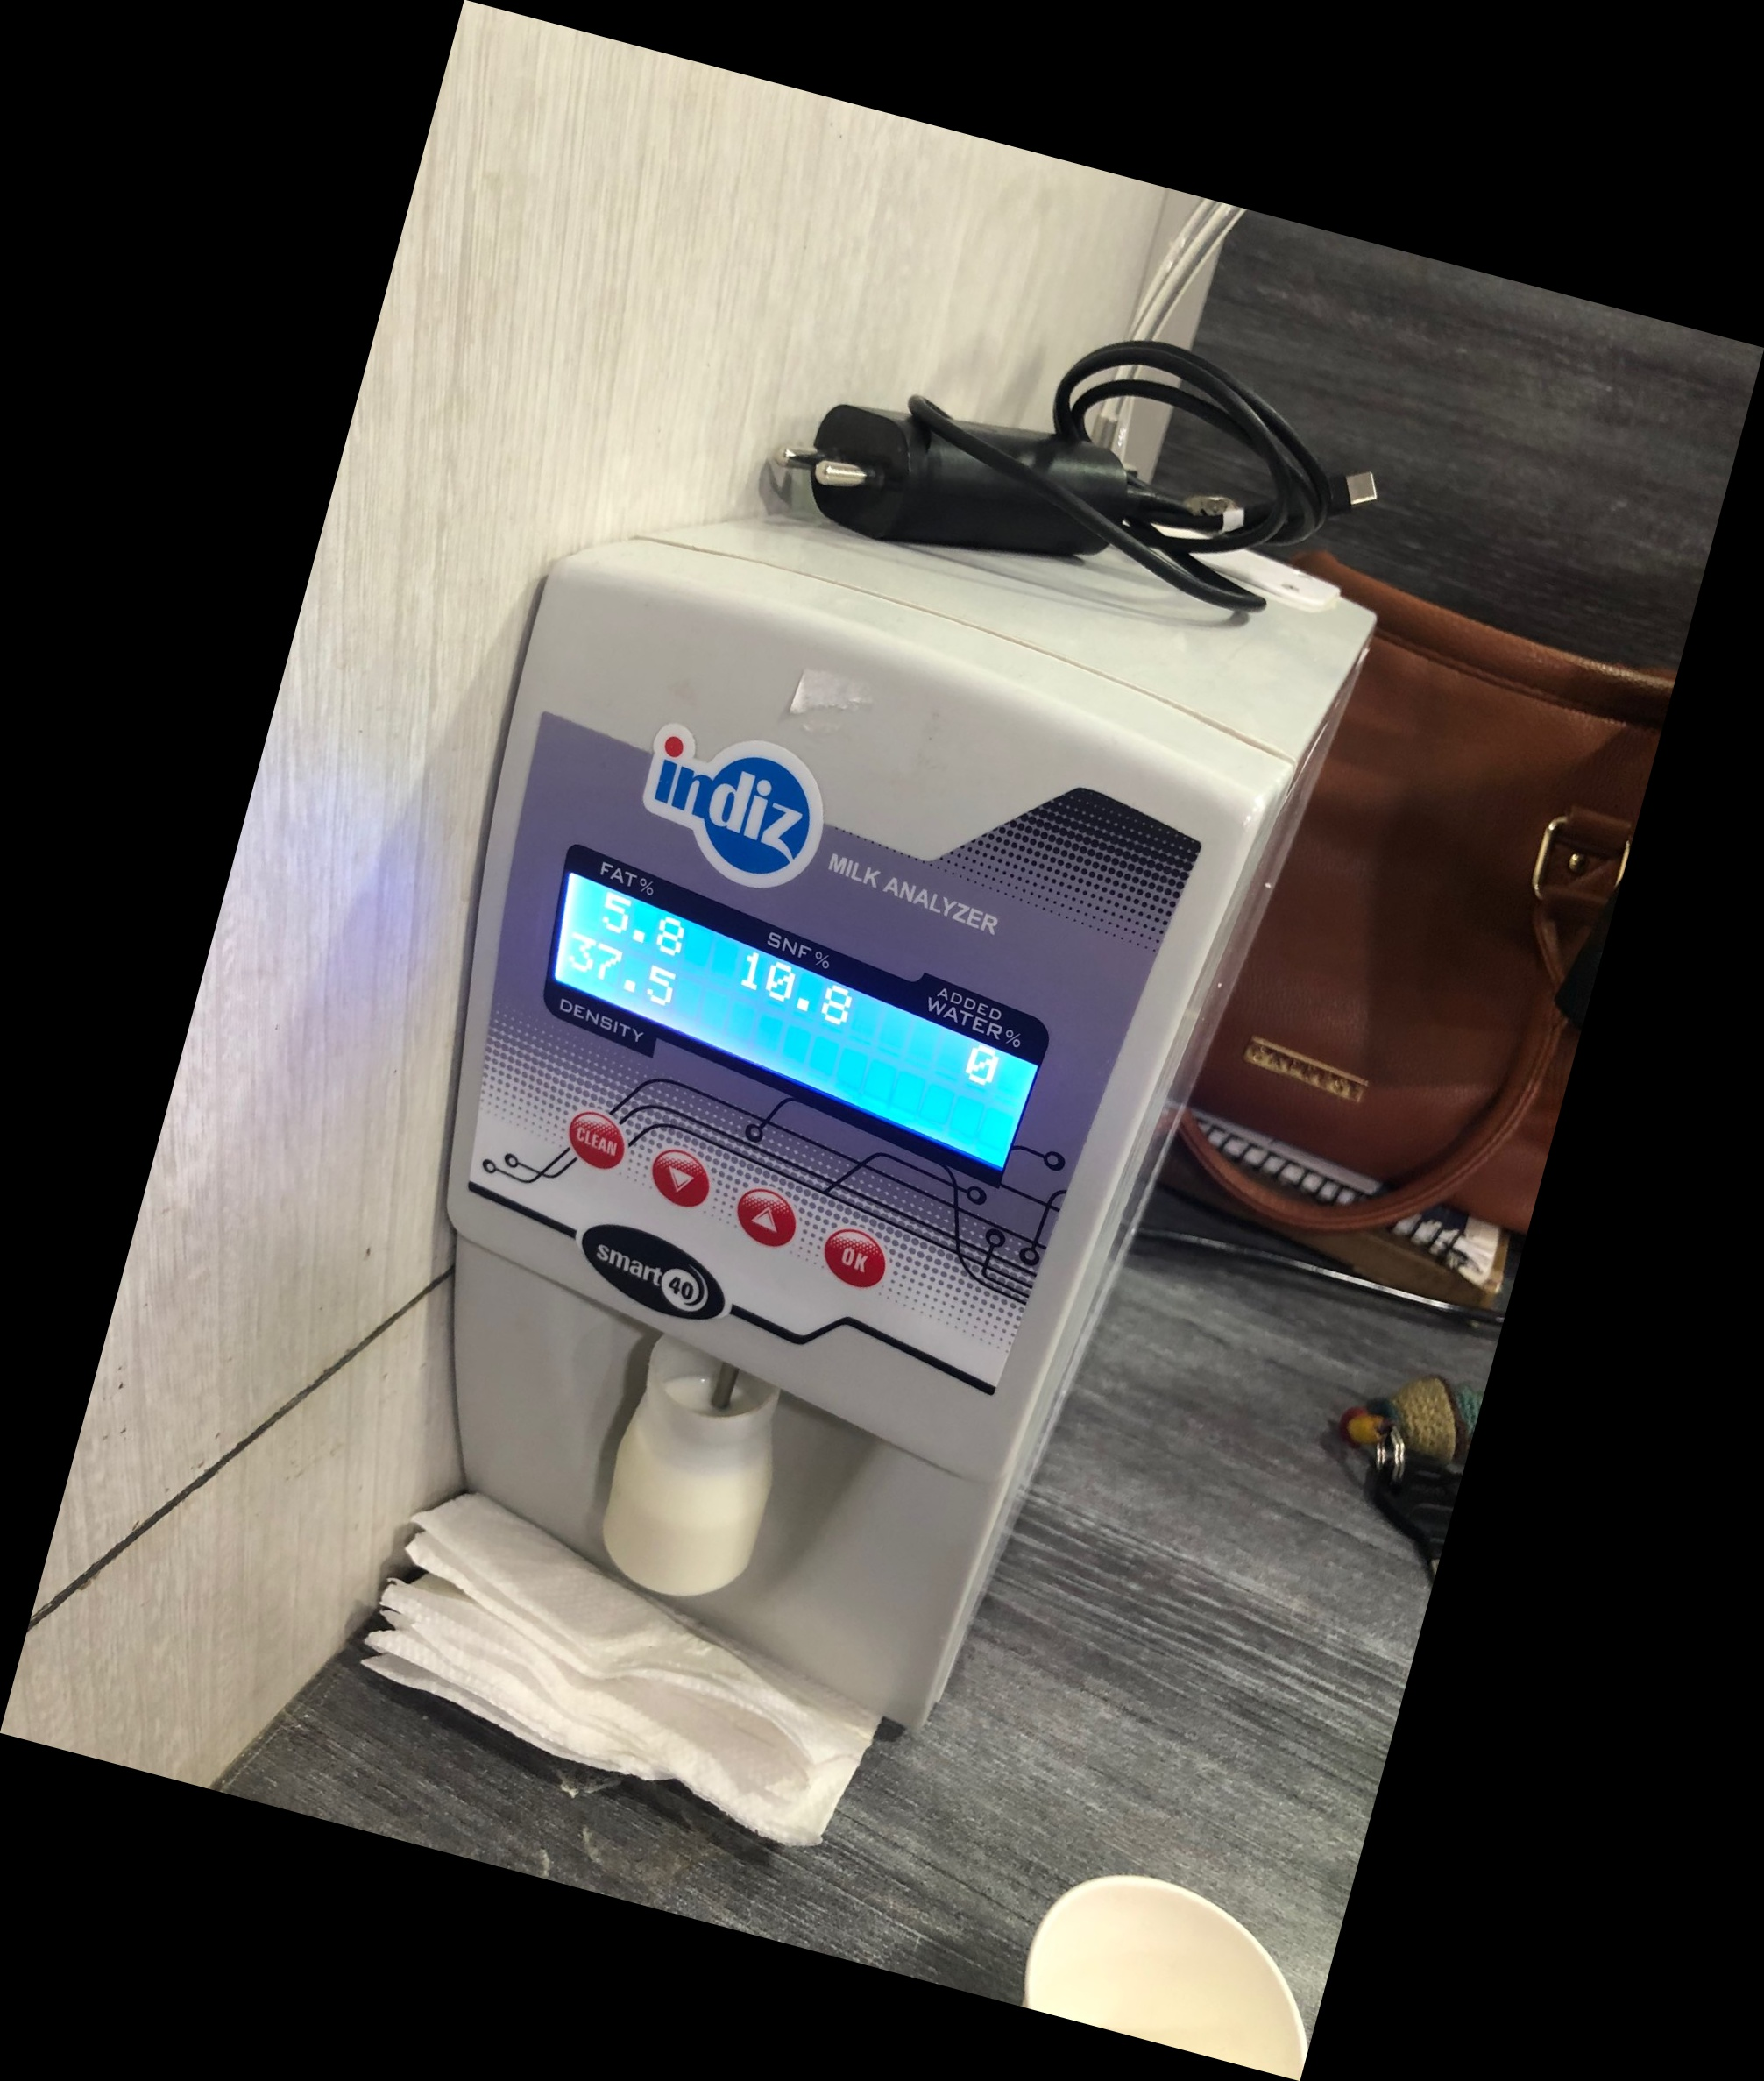lcd: (486, 842, 1081, 1188)
